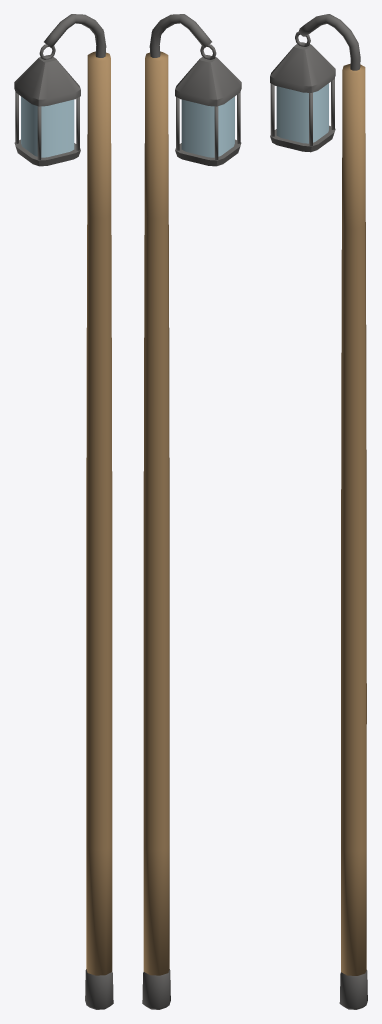
The model's file is lantern-staff.glb.
3 renders of one model, left to right at view 1: azimuth 30°, elevation 25°; view 2: azimuth 150°, elevation 25°; view 3: azimuth 330°, elevation 25°, orthographic.
Visible parts, largest first — view 1: lantern-staff; view 2: lantern-staff; view 3: lantern-staff.
Part boxes in pixels (x1,y1,x2,y2): lantern-staff: [14, 14, 113, 1009]; lantern-staff: [142, 14, 241, 1009]; lantern-staff: [270, 14, 367, 1009].
Bounding box in the file's own units: 0.2736 × 2.96 × 0.1479.
